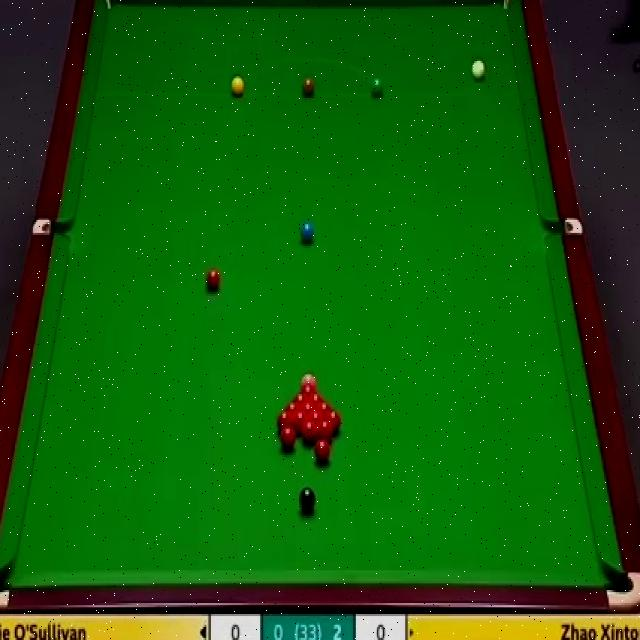black-ball: (299, 487, 317, 516)
blue-ball: (299, 220, 315, 246)
brown-ball: (301, 76, 315, 97)
green-ball: (369, 75, 384, 98)
pink-ball: (301, 372, 318, 387)
red-ball: (204, 264, 222, 294), (314, 441, 333, 466), (316, 420, 334, 443), (279, 426, 296, 449), (301, 421, 317, 444), (276, 409, 294, 428), (293, 411, 308, 431), (309, 412, 324, 432), (324, 412, 342, 428), (284, 401, 301, 412), (300, 402, 317, 412), (309, 393, 325, 403), (300, 384, 317, 393), (317, 403, 333, 412), (293, 393, 308, 402)
white-ball: (471, 54, 489, 84)
yellow-ball: (231, 76, 245, 98)
